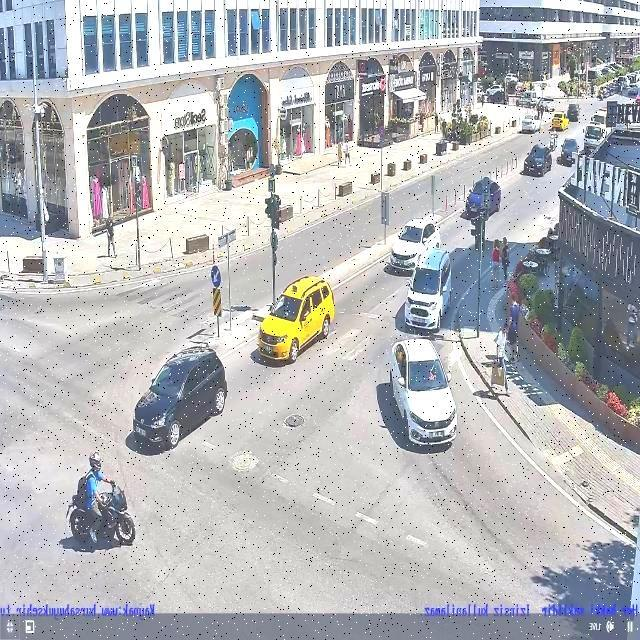Car: (130, 346, 225, 450), (385, 333, 459, 455), (256, 274, 334, 363), (406, 248, 453, 331), (389, 215, 443, 272), (457, 167, 507, 223), (519, 143, 556, 175)
